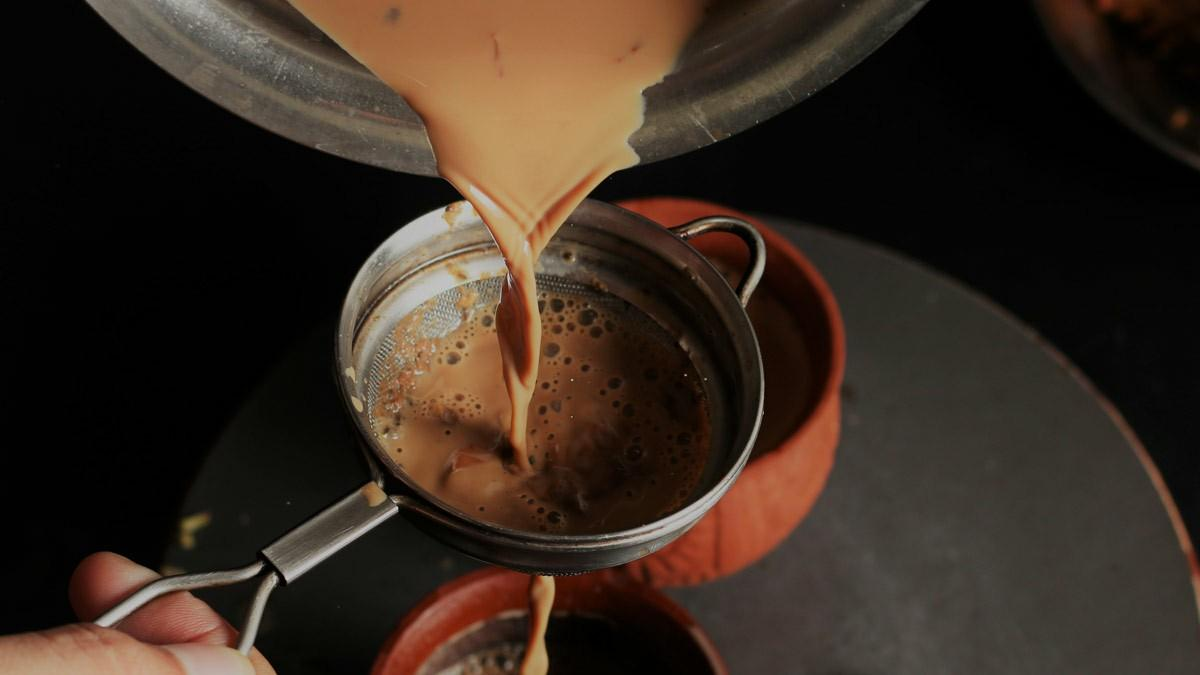Chai: (281, 0, 705, 523), (521, 570, 557, 675)
